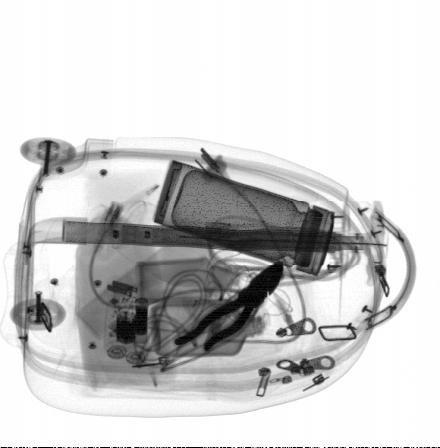Pliers: (174, 261, 284, 355)
